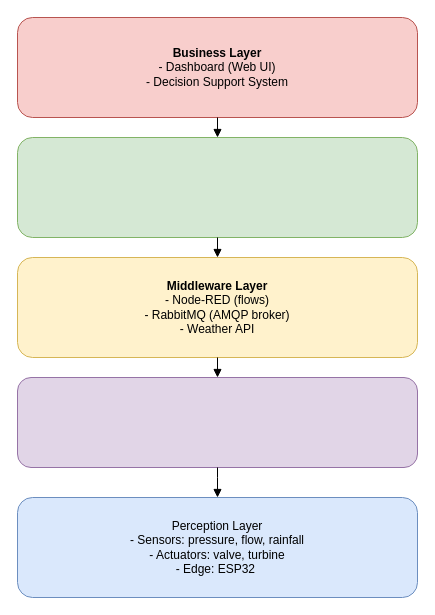
Image size: 435x615. Some labels were removed from this diagram. The shapes that lost their labels are listed below. From the top down, each one's box as (x1, y1, x2, y2) in pixels, then its label:
(16, 136, 418, 238): Application Layer - AI/ML Engine - Control Logic - Visualization (Node-RED)
(16, 376, 418, 468): Network Layer - AMQP - Wi-Fi (prototype) / LoRaWAN (deployment)
